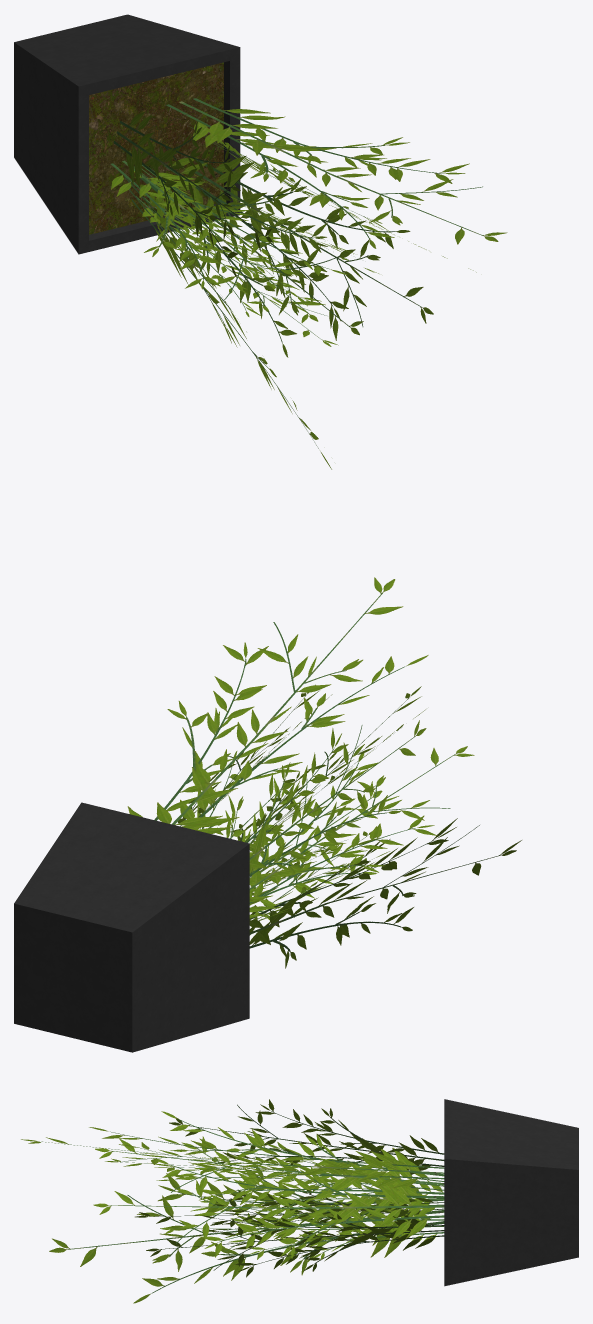
The picture shows the model from 3 angles, top to bottom: view 1: azimuth 30°, elevation 25°; view 2: azimuth 150°, elevation 25°; view 3: azimuth 270°, elevation 25°; orthographic projection. The views are drawn at different scales.
Visible parts, largest first — view 1: Pot_5_Low_PolyPlant_0; view 2: Pot_5_Low_PolyPlant_0; view 3: Pot_5_Low_PolyPlant_0.
Part boxes in pixels (x1,y1,x2,y2): Pot_5_Low_PolyPlant_0: (14, 14, 507, 469); Pot_5_Low_PolyPlant_0: (14, 577, 521, 1052); Pot_5_Low_PolyPlant_0: (21, 1099, 578, 1303).
Bounding box in the file's own units: 0.9064 × 0.8938 × 2.07.
Materials: 1 (1 with a texture image).
